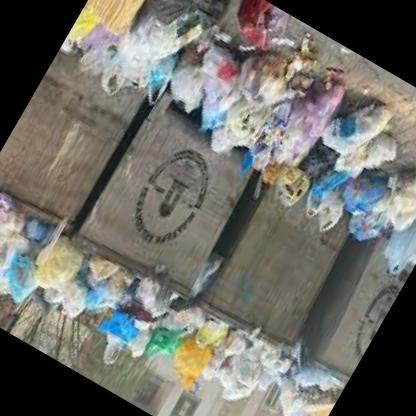Garbage: (59, 0, 415, 236), (0, 188, 319, 415), (208, 4, 358, 152), (240, 102, 339, 202), (212, 0, 313, 85), (96, 0, 195, 86), (144, 316, 232, 398), (318, 87, 388, 171), (16, 228, 88, 302), (77, 296, 150, 364), (213, 350, 272, 416), (46, 266, 102, 327), (378, 143, 415, 229), (376, 199, 415, 271), (0, 219, 19, 281)
